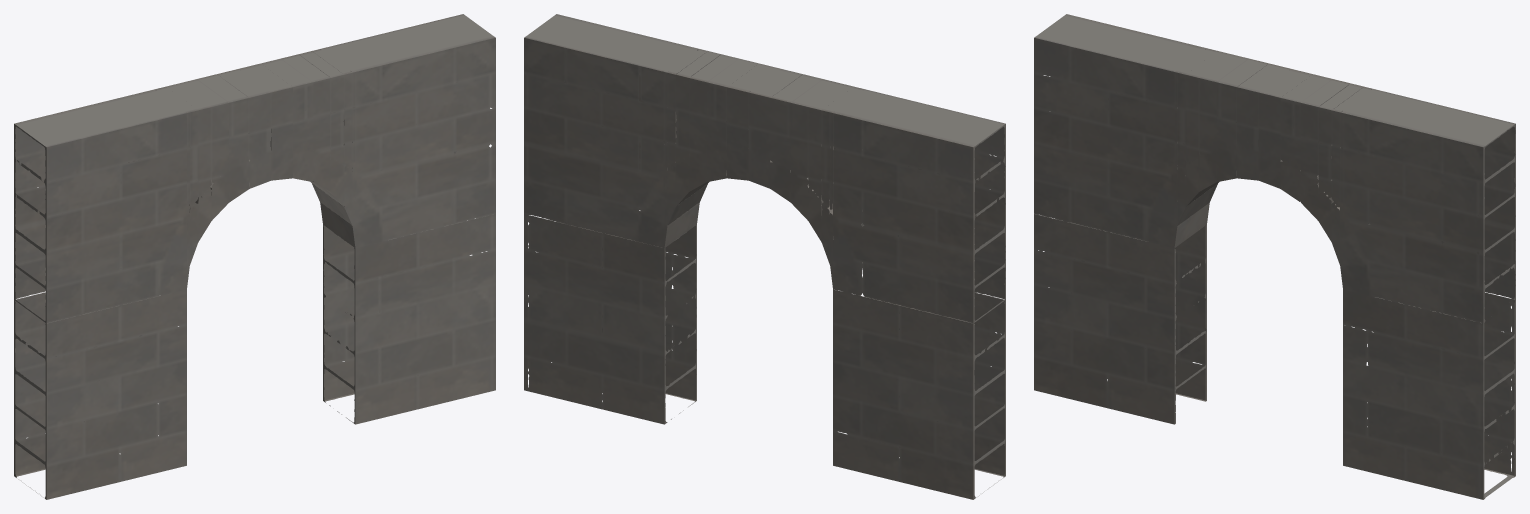
The model's file is stone-arched-doorway.fbx.
The picture shows the model from 3 angles, left to right: view 1: azimuth 30°, elevation 25°; view 2: azimuth 150°, elevation 25°; view 3: azimuth 330°, elevation 25°; orthographic projection.
Visible parts, largest first — view 1: stone-arched-doorway; view 2: stone-arched-doorway; view 3: stone-arched-doorway.
Part boxes in pixels (left/top/right/bottom): stone-arched-doorway: left=14, top=14, right=495, bottom=499; stone-arched-doorway: left=524, top=14, right=1005, bottom=499; stone-arched-doorway: left=1034, top=14, right=1515, bottom=499.
Size of the model in its own units: 400 by 300 by 50.
